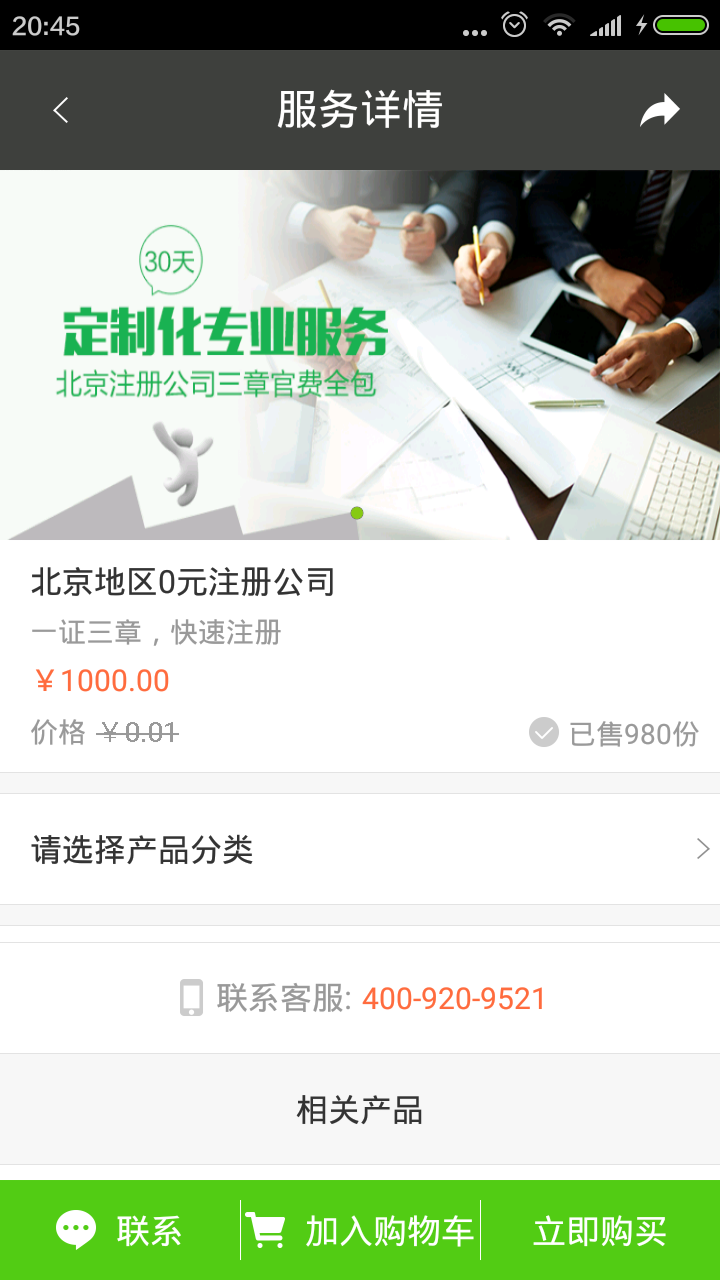nav: (8, 1177, 714, 1276)
textview: (13, 548, 714, 771), (135, 953, 603, 1144)
